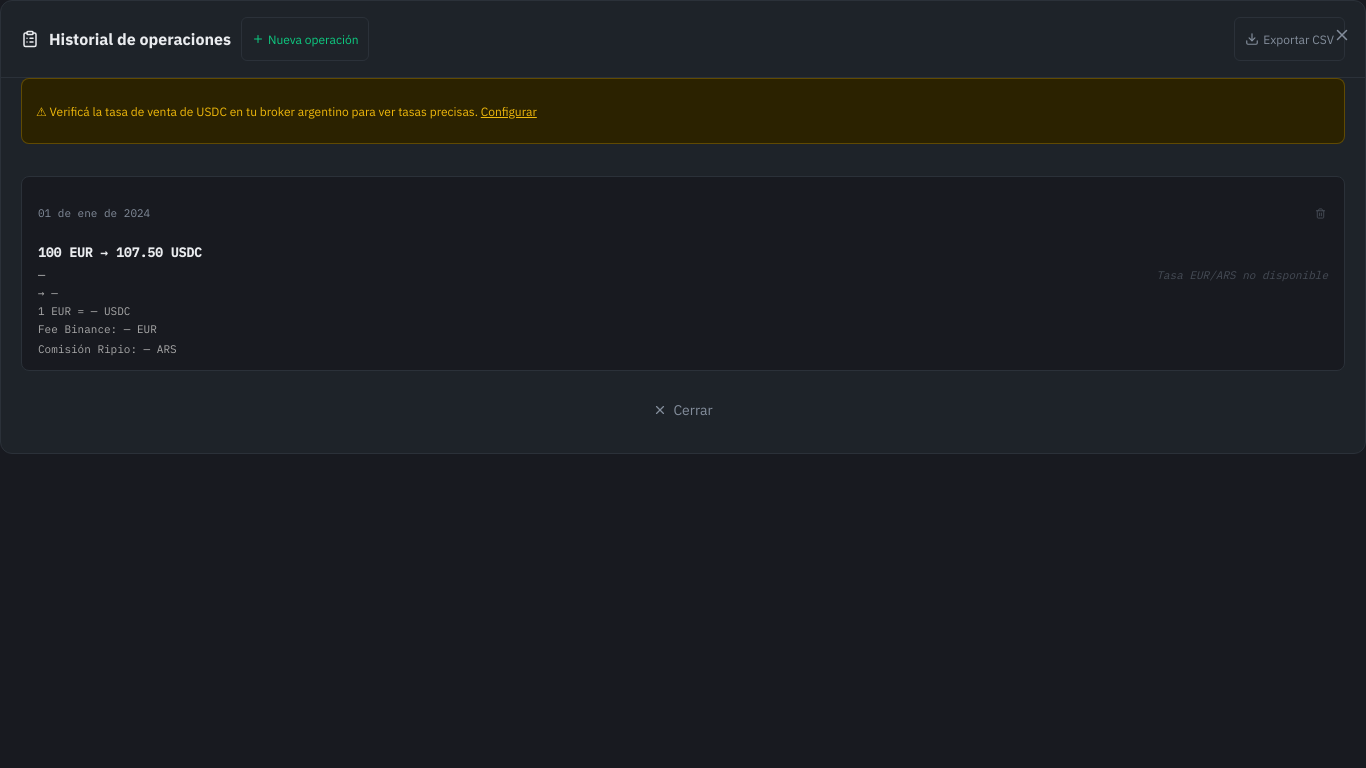
Scenario: History Component › flujo editar/guardar comisión Ripio vía modal actualiza el valor mostrado y el localStorage
The width and height of the screenshot is (1366, 768).
abrir modal de edición tocando la card
Click the button with test id "history-card" at (683, 274), box [21,176,1345,371]
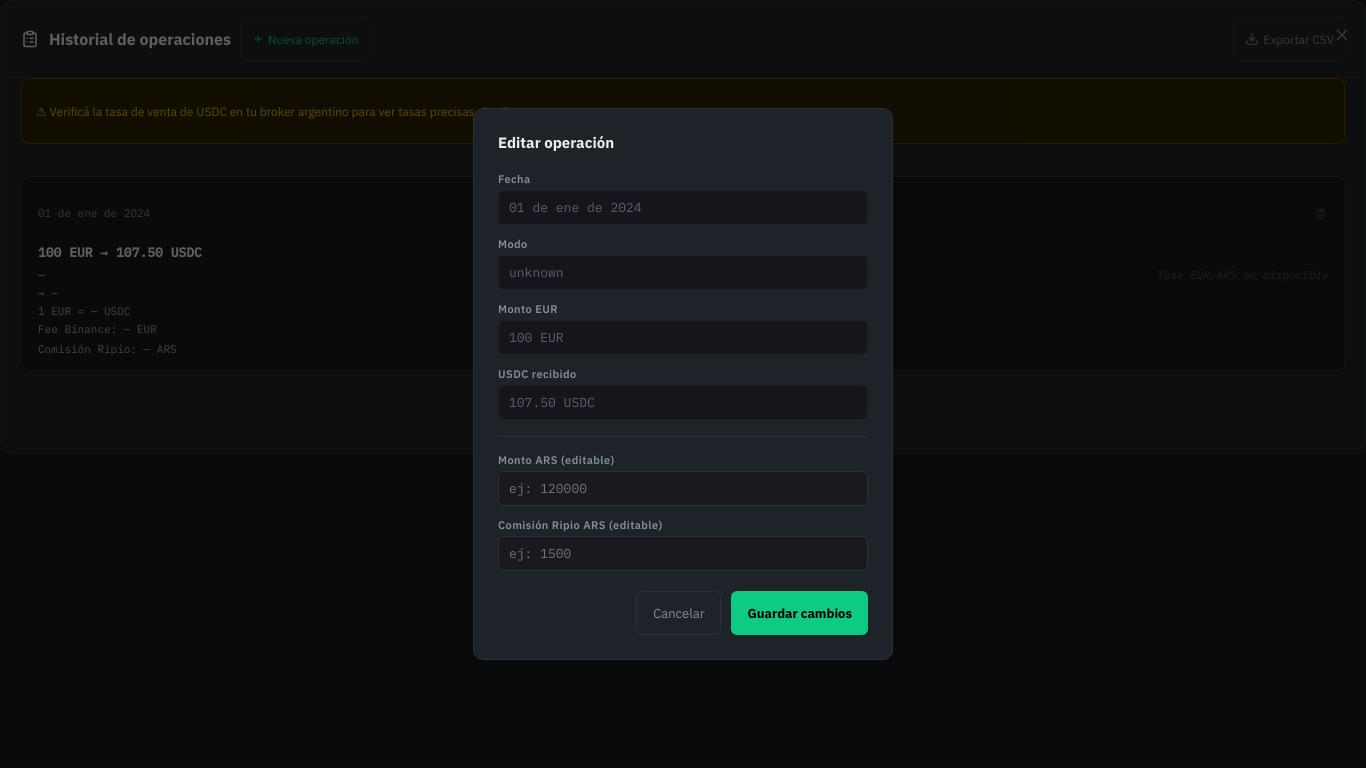
Result: the number field labelled "Comisión Ripio ARS (editable)" is shown
ingresar valor
Type "2500" into the number field labelled "Comisión Ripio ARS (editable)" at (683, 554), box [498,536,868,571]
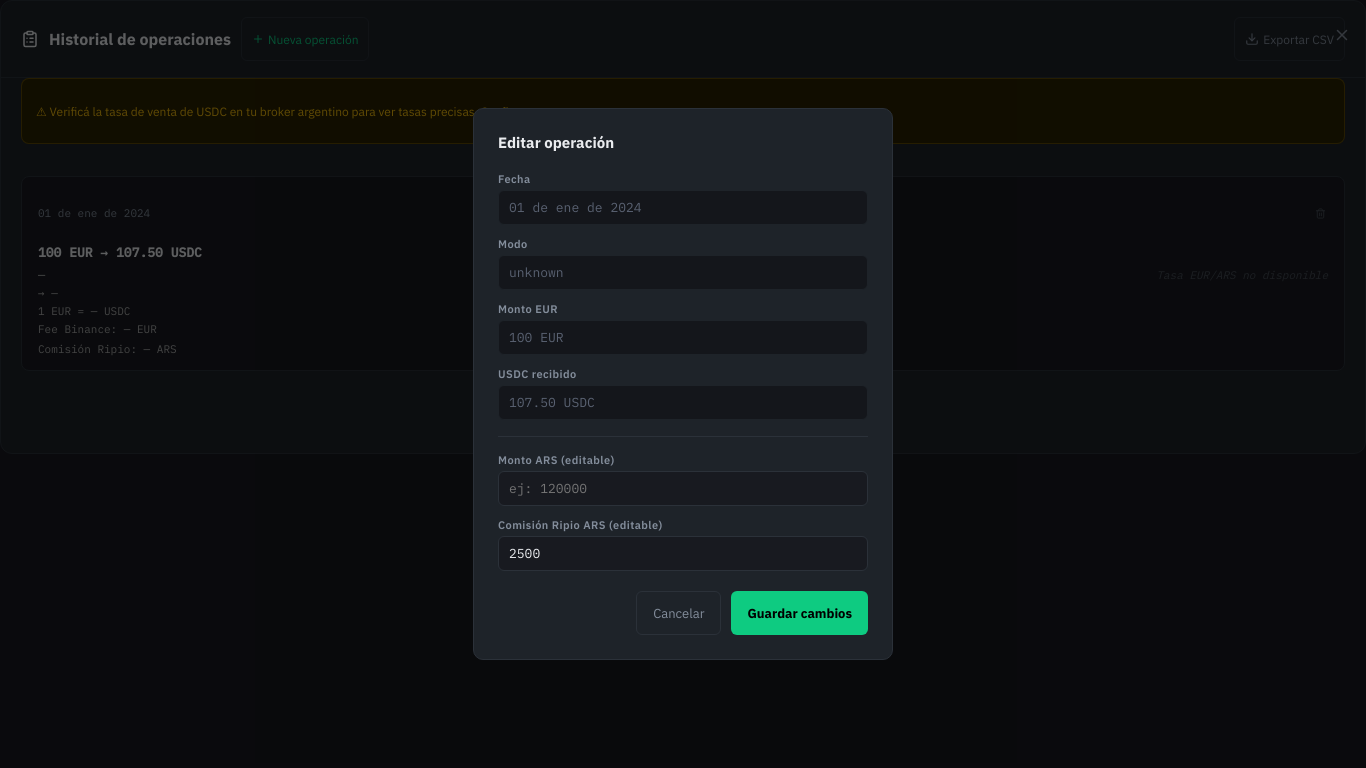
Click the button "Guardar cambios" at (800, 613), box [731,591,868,635]
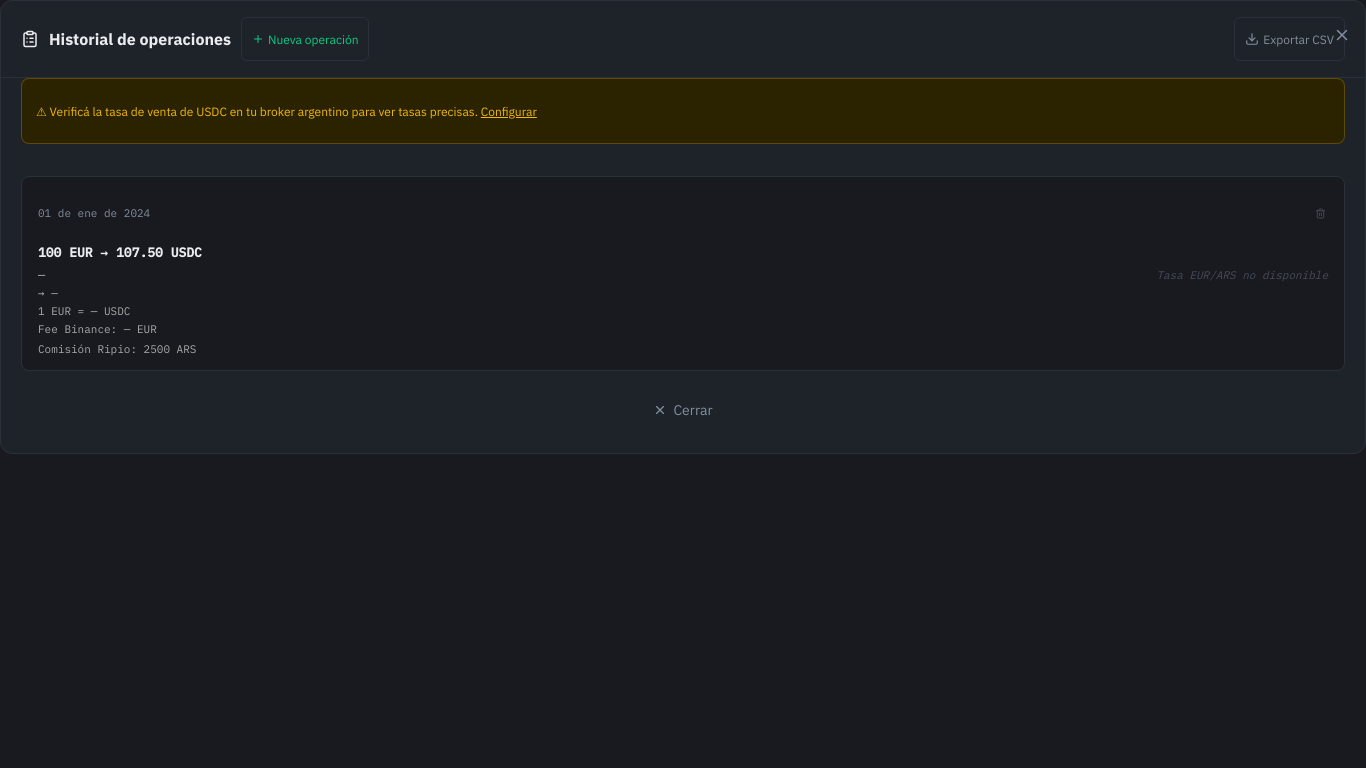
Result: the text "Comisión Ripio: 2500 ARS" is shown at [38,342,196,356]
